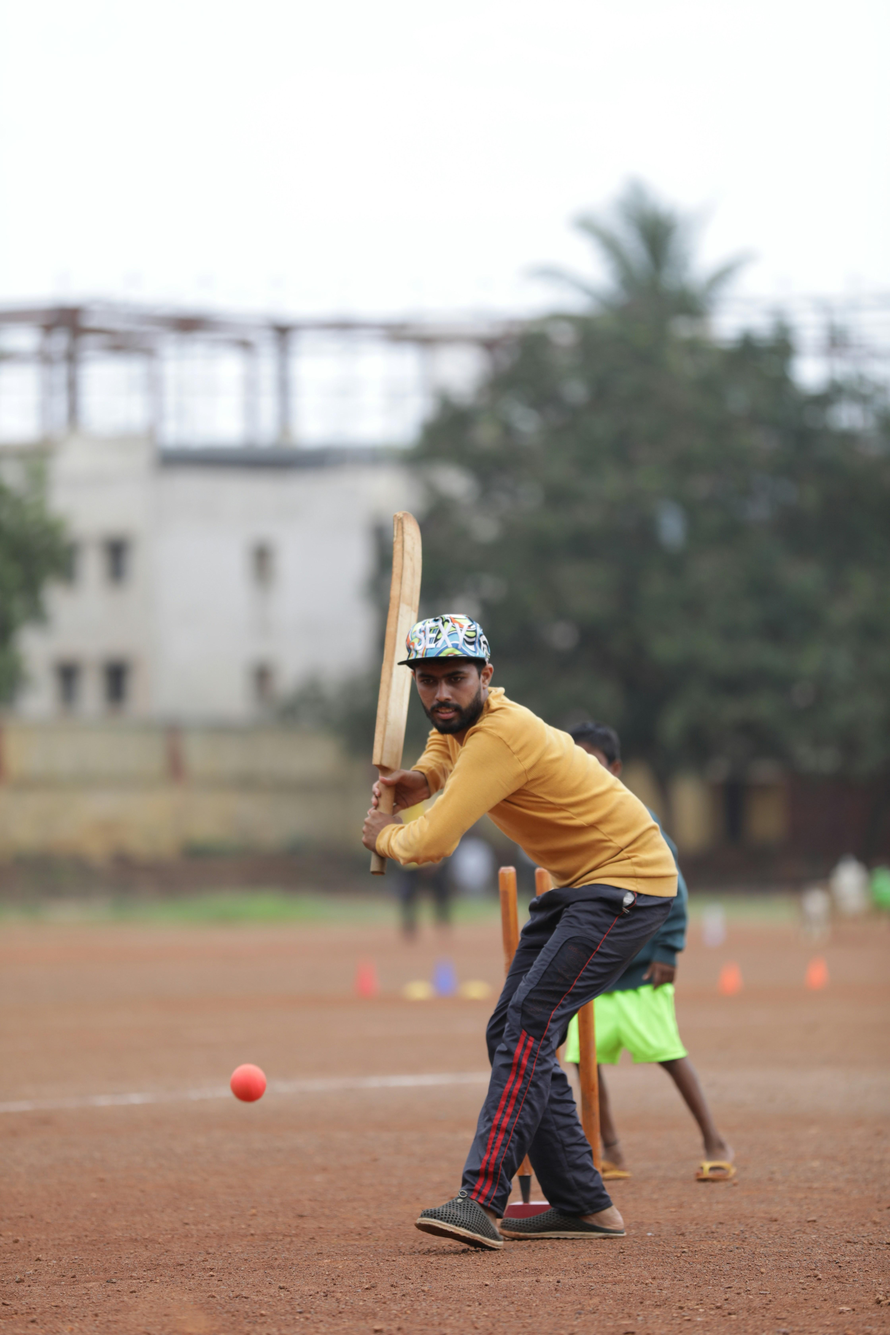batsman: (320, 460, 682, 1237)
